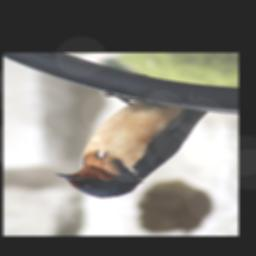Swallow: (54, 87, 211, 199)
